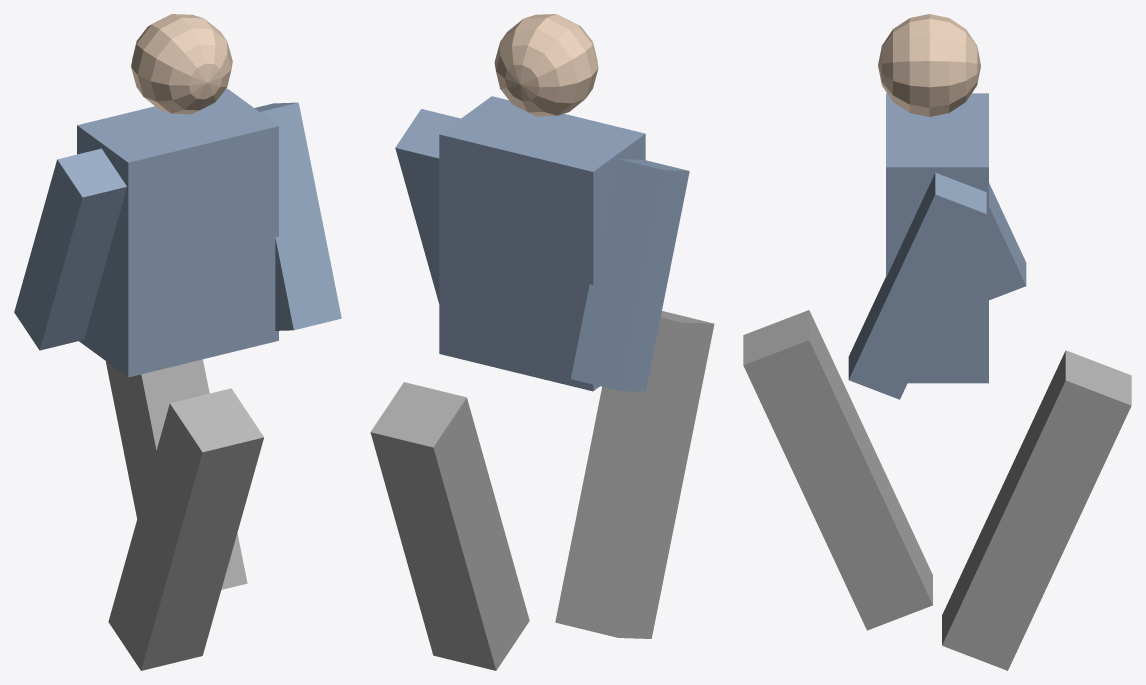
The model's file is walk_backwards.glb.
The picture shows the model from 3 angles, left to right: view 1: azimuth 30°, elevation 25°; view 2: azimuth 150°, elevation 25°; view 3: azimuth 270°, elevation 25°; orthographic projection. The views are drawn at different scales.
Parts seen in each view (by area): view 1: torso, leg_l, arm_l, arm_r, head, leg_r; view 2: torso, leg_l, leg_r, arm_l, head, arm_r; view 3: leg_l, leg_r, torso, arm_r, head, arm_l.
Part boxes in pixels (<box>): torso: <box>77,88,278,377</box>; leg_l: <box>108,388,263,670</box>; arm_l: <box>14,148,126,350</box>; arm_r: <box>254,102,341,330</box>; head: <box>131,14,232,114</box>; leg_r: <box>105,359,247,589</box>; torso: <box>439,96,645,391</box>; leg_l: <box>555,311,714,638</box>; leg_r: <box>370,382,529,670</box>; arm_l: <box>571,159,689,391</box>; head: <box>494,14,598,116</box>; arm_r: <box>395,109,460,303</box>; leg_l: <box>743,310,932,630</box>; leg_r: <box>942,350,1131,670</box>; torso: <box>886,93,988,383</box>; arm_r: <box>848,172,986,399</box>; head: <box>878,14,980,116</box>; arm_l: <box>989,183,1026,300</box>.
Size of the model in its own units: 0.7001 by 1.71 by 0.9774.
